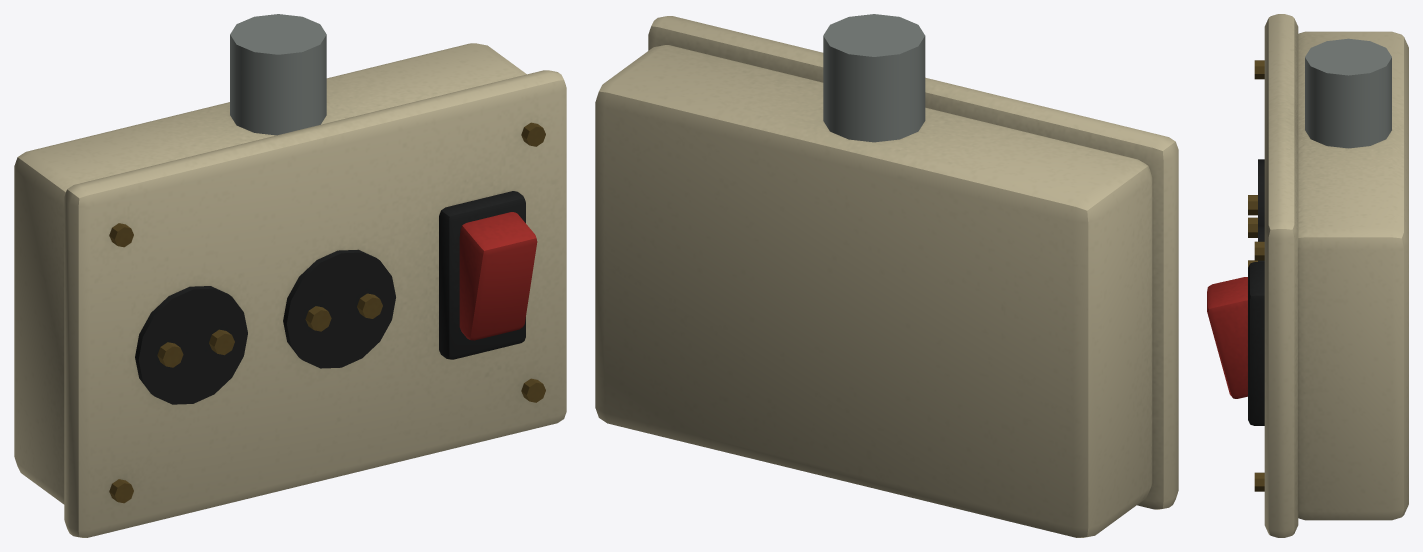
Rendered from CTCC_ENV_WallOutlet.fbx.
3 views of the same model, side by side, from view 1: azimuth 30°, elevation 25°; view 2: azimuth 150°, elevation 25°; view 3: azimuth 270°, elevation 25° (orthographic). The views are drawn at different scales.
Visible parts, largest first — view 1: CTCC_ENV_WallOutlet; view 2: CTCC_ENV_WallOutlet; view 3: CTCC_ENV_WallOutlet.
Part boxes in pixels (x1,y1,x2,y2): CTCC_ENV_WallOutlet: (14, 14, 566, 537); CTCC_ENV_WallOutlet: (595, 14, 1178, 537); CTCC_ENV_WallOutlet: (1207, 14, 1408, 537).
Bounding box in the file's own units: 0.154 × 0.124 × 0.0602.
